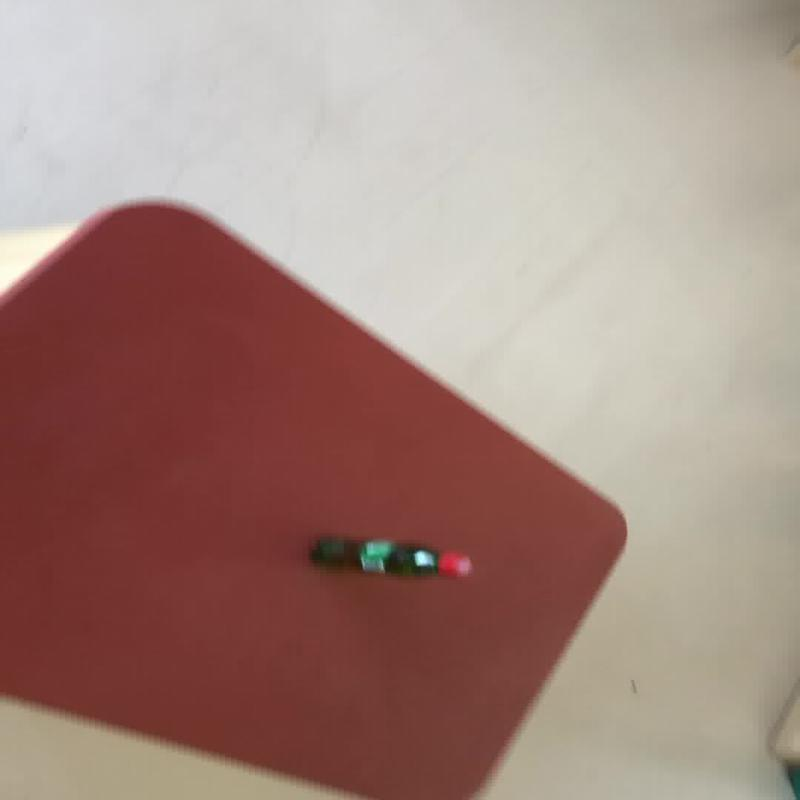guarana: (1, 197, 630, 796), (305, 534, 473, 578)
